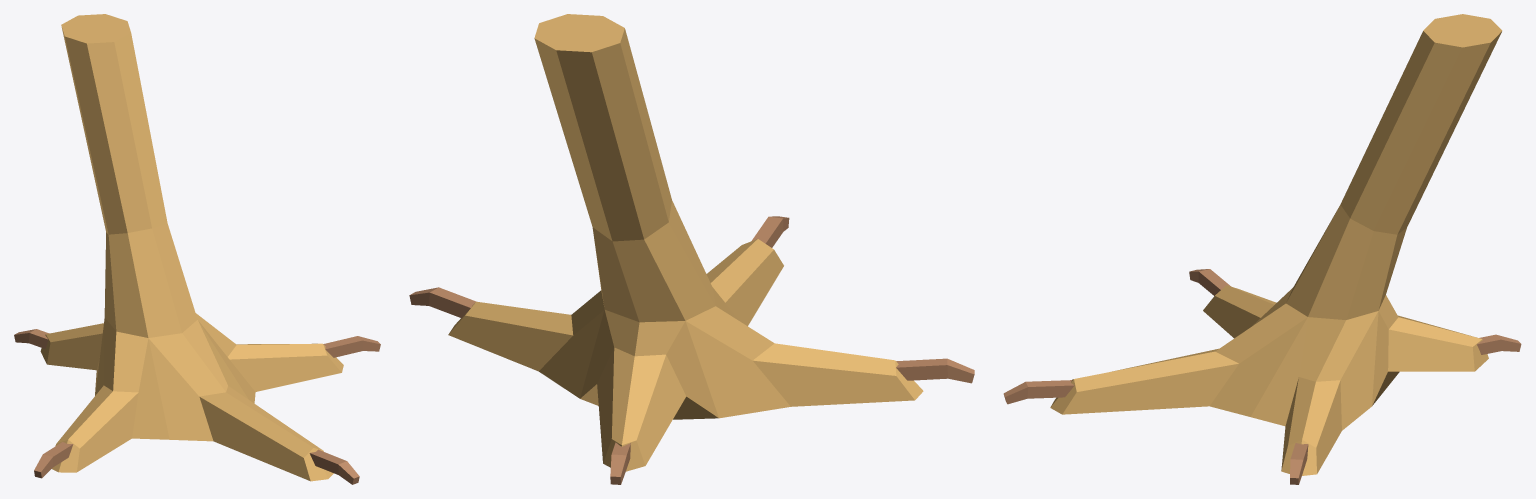
The model's file is Mesh_ChickenFoot.obj.
3 renders of one model, left to right at view 1: azimuth 30°, elevation 25°; view 2: azimuth 150°, elevation 25°; view 3: azimuth 270°, elevation 25°, orthographic. The views are drawn at different scales.
Parts seen in each view (by area): view 1: Geo_ChickenFoot; view 2: Geo_ChickenFoot; view 3: Geo_ChickenFoot.
Boxes of the visible parts, box(x1,y1,x2,y2) form: Geo_ChickenFoot: box(14, 14, 380, 484); Geo_ChickenFoot: box(409, 14, 974, 484); Geo_ChickenFoot: box(1003, 14, 1521, 484).
Bounding box in the file's own units: 34.94 × 27.64 × 36.68.
Materials: 1 (1 with a texture image).
